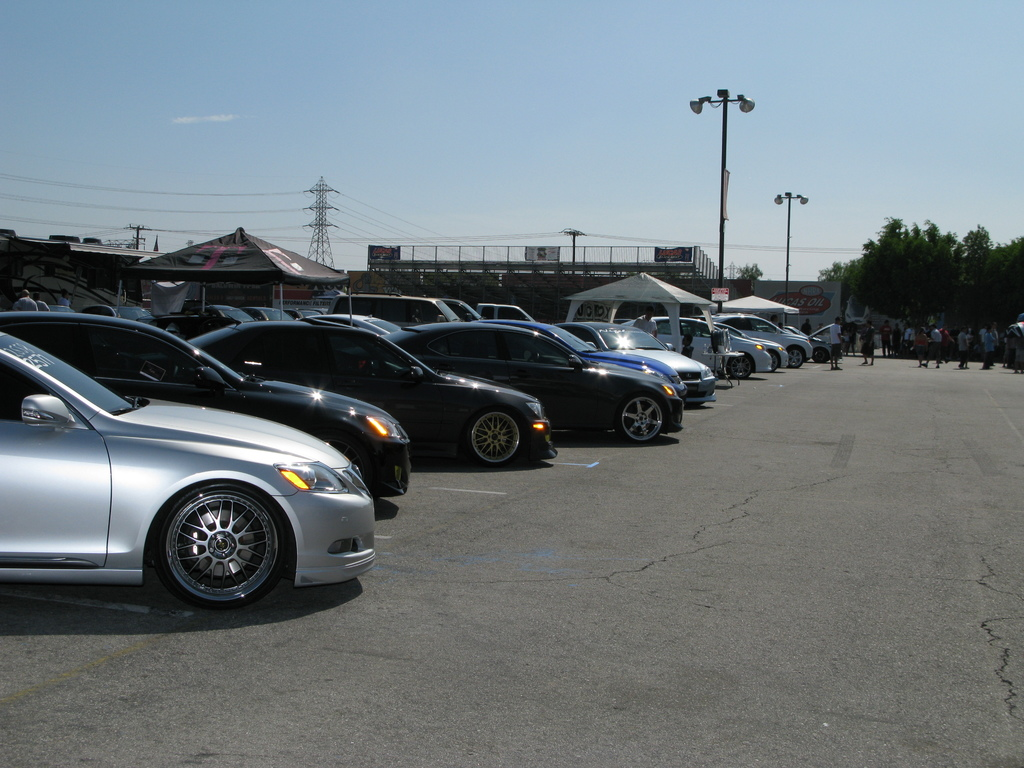Wheel: (136, 491, 273, 600), (470, 411, 527, 464), (618, 396, 664, 444), (320, 435, 366, 481), (730, 353, 751, 378), (788, 349, 803, 368), (769, 352, 778, 371), (812, 351, 827, 362)
